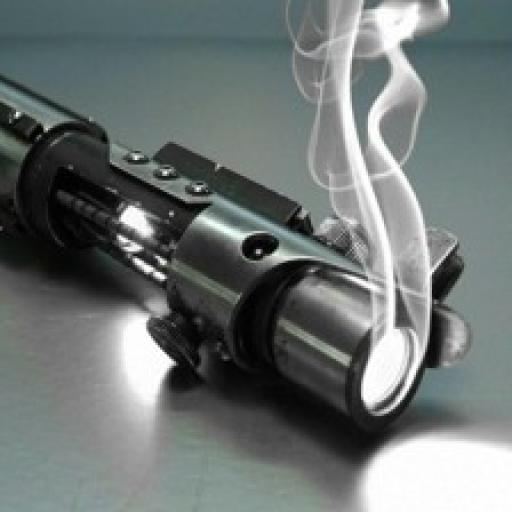lightsaber: (0, 69, 471, 441)
